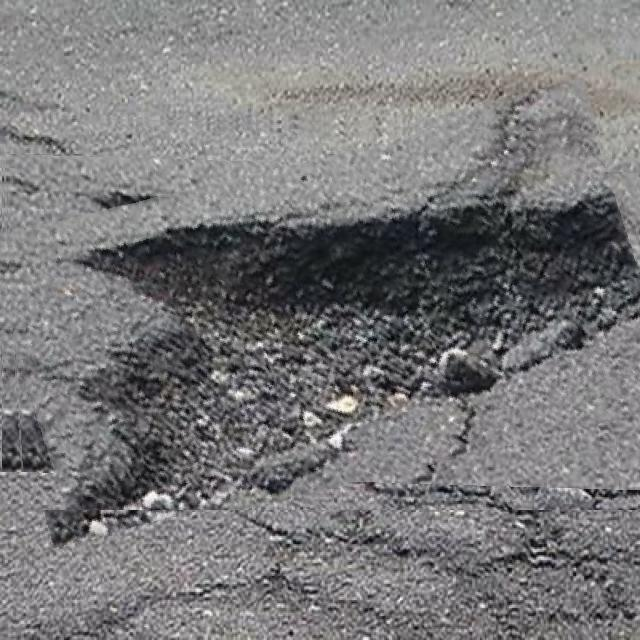Pothole: (0, 115, 640, 510)
